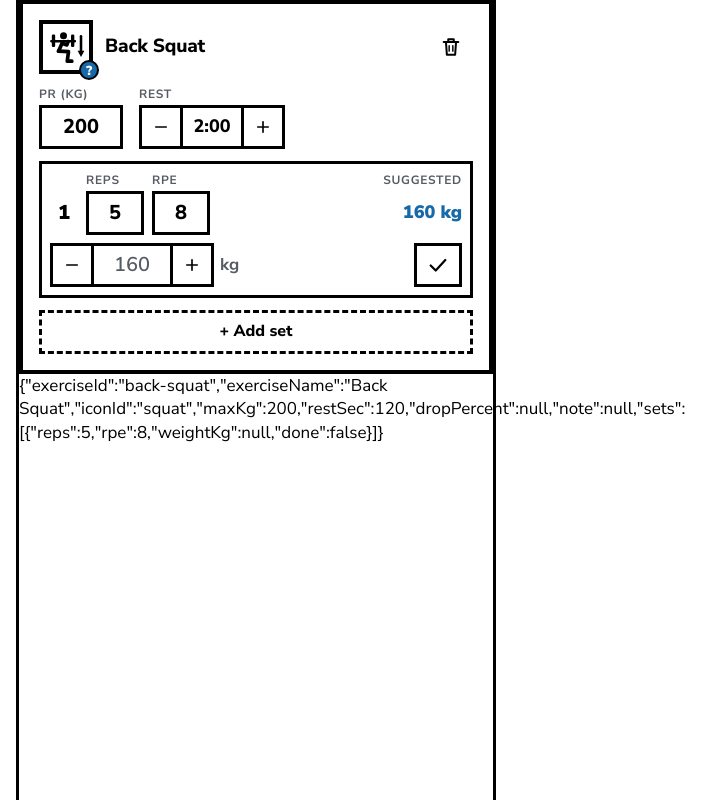
ExerciseBlock › updates the suggestion when RPE or the PR change
This screenshot has width=702, height=800.
Replace the text in the field labelled "RPE" with "9" at (181, 213), box [152,191,210,235]
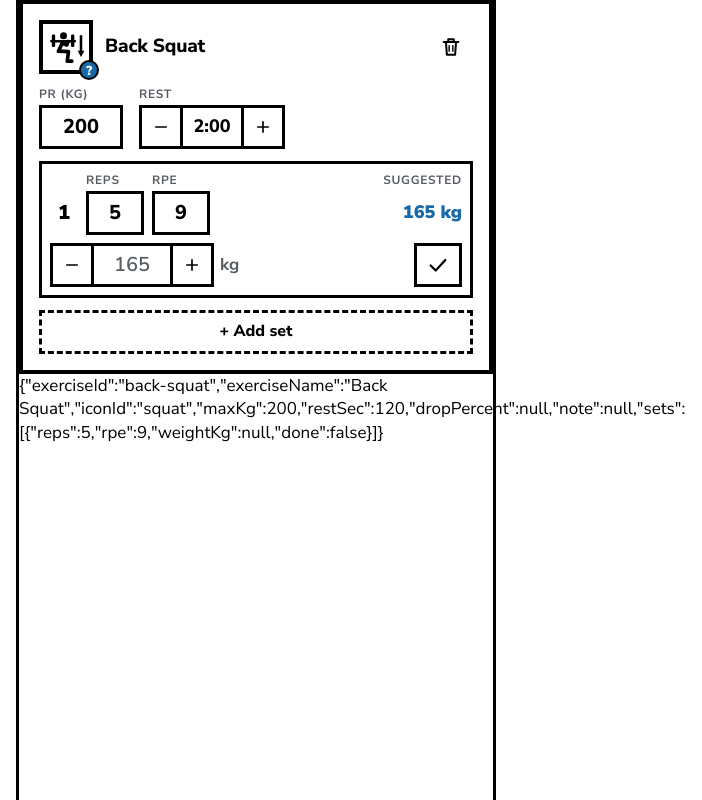
Check: the text "165 kg" is shown, box [403,200,462,224]
Replace the text in the field labelled "PR (kg)" with "220" at (81, 127), box [39,105,123,149]
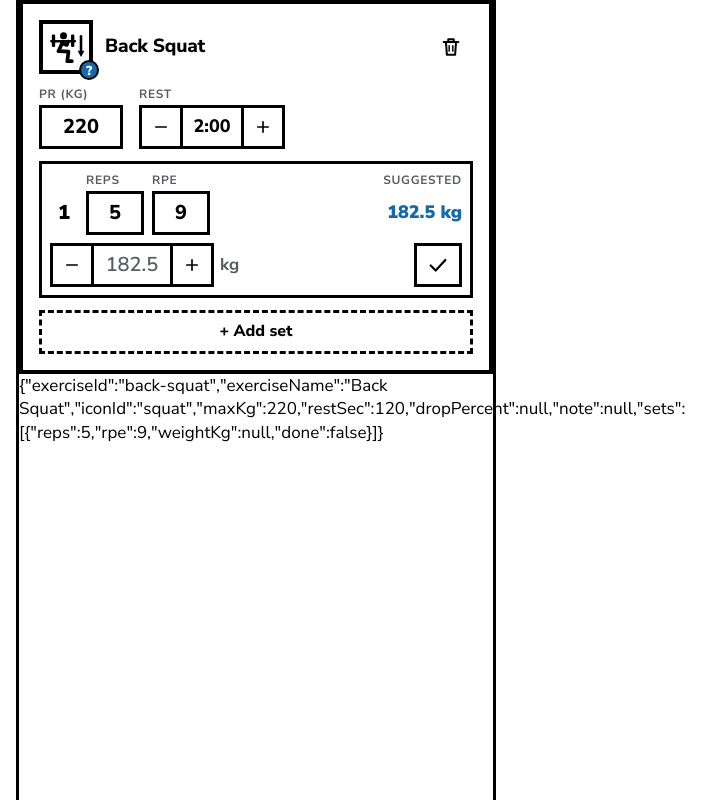
Check: the text "182.5 kg" is shown, box [387,200,462,224]
